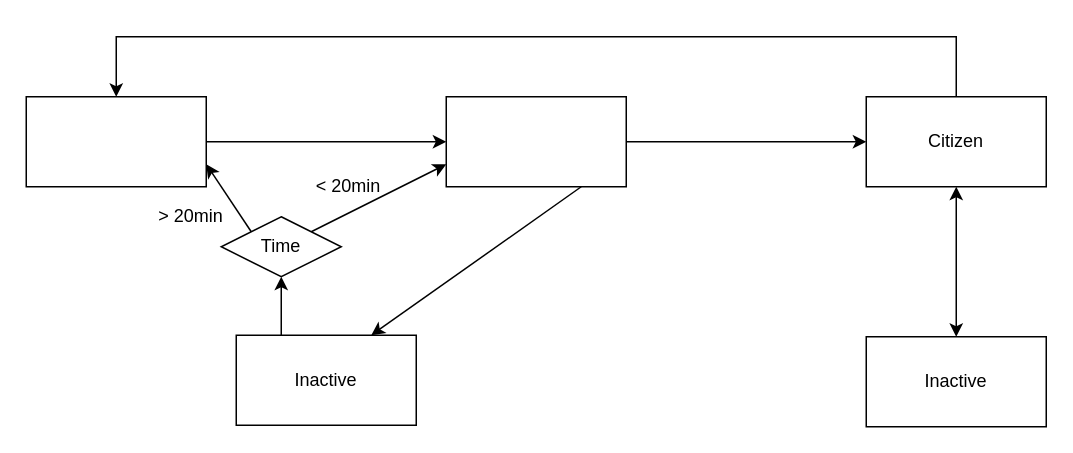
This 1073x453 diagram has some shape labels left out. Each missing label, with the box of its shape:
Guardian: (445, 95, 626, 187)
Login: (25, 95, 206, 187)
